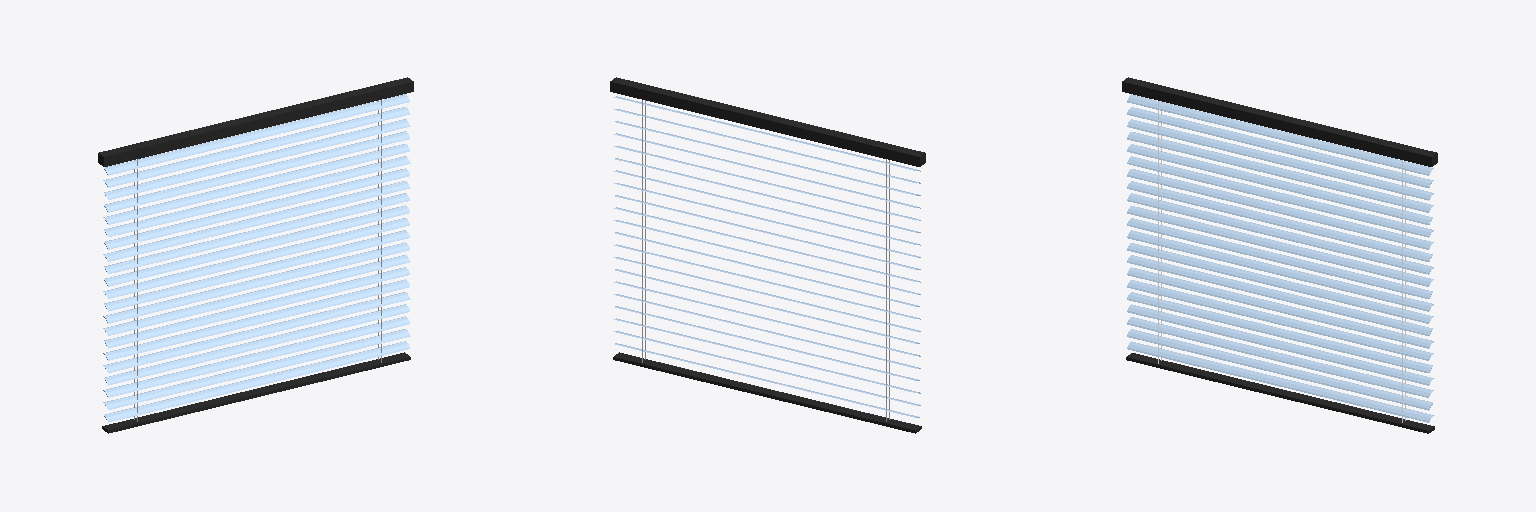
3 renders of one model, left to right at view 1: azimuth 30°, elevation 25°; view 2: azimuth 150°, elevation 25°; view 3: azimuth 330°, elevation 25°, orthographic.
Parts seen in each view (by area): view 1: Screen; view 2: Screen; view 3: Screen.
Part boxes in pixels (bbox=[...]): Screen: bbox=[98, 77, 413, 433]; Screen: bbox=[610, 77, 925, 433]; Screen: bbox=[1122, 77, 1437, 433].
Bounding box in the file's own units: 11.44 × 9.8 × 0.3834.